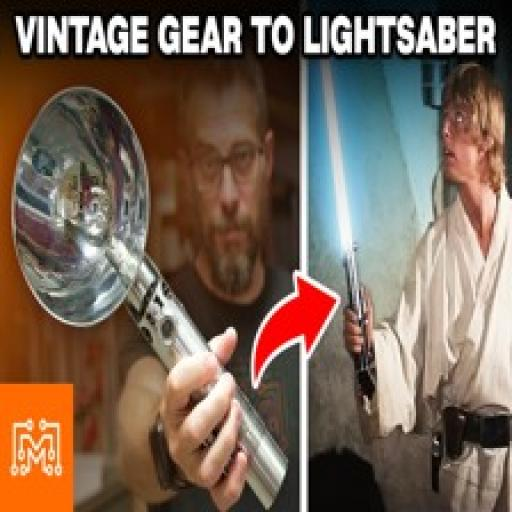human: (343, 61, 512, 512)
lightsaber: (107, 235, 289, 506), (318, 56, 376, 384)
